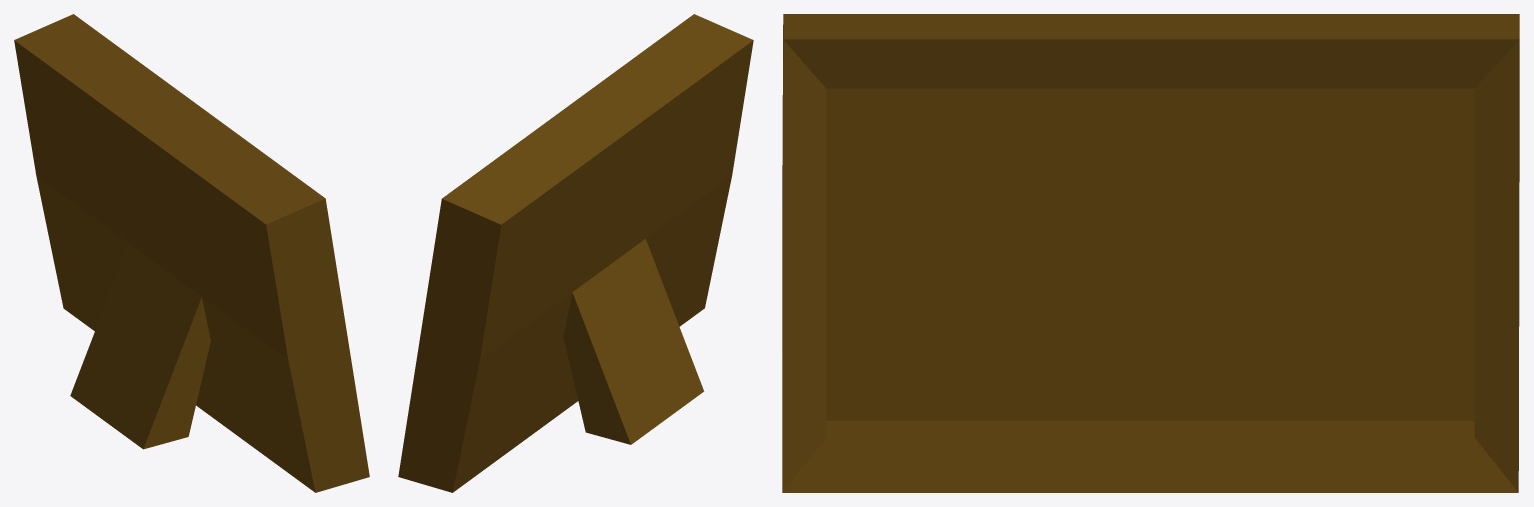
File: pictureframetable02.obj
The picture shows the model from 3 angles, left to right: view 1: azimuth 30°, elevation 25°; view 2: azimuth 150°, elevation 25°; view 3: azimuth 270°, elevation 25°; orthographic projection. The views are drawn at different scales.
Visible parts, largest first — view 1: Cube_Cube.001; view 2: Cube_Cube.001; view 3: Cube_Cube.001.
Part boxes in pixels (x1,y1,x2,y2): Cube_Cube.001: [14, 14, 369, 492]; Cube_Cube.001: [398, 14, 753, 492]; Cube_Cube.001: [782, 14, 1519, 492].
Size of the model in its own units: 0.0506 by 0.1006 by 0.1578.
